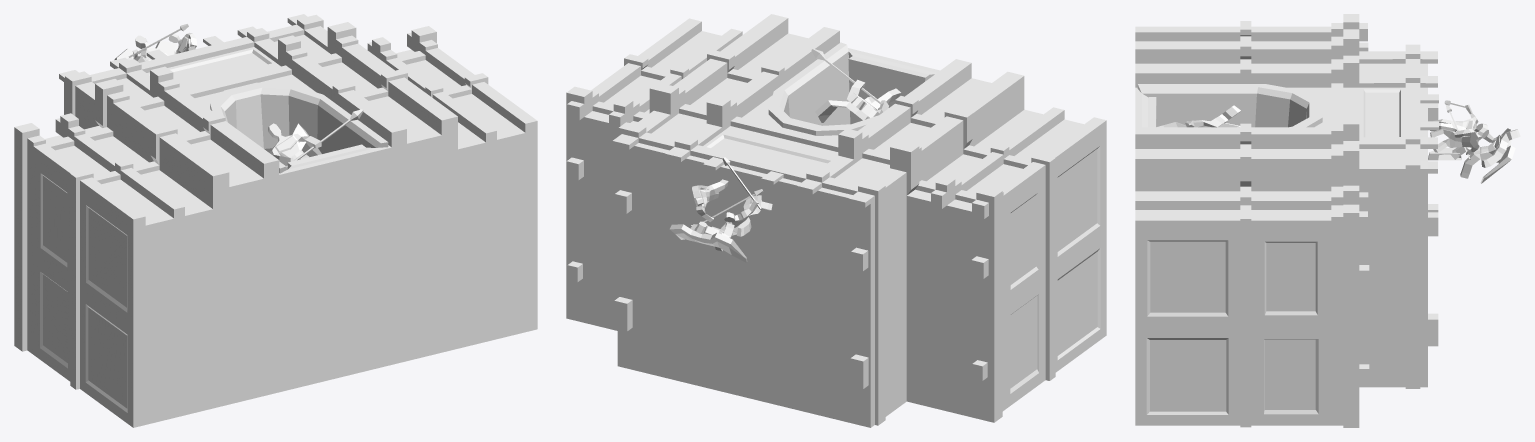
File: venice_building_5.fbx
3 renders of one model, left to right at view 1: azimuth 30°, elevation 25°; view 2: azimuth 150°, elevation 25°; view 3: azimuth 270°, elevation 25°, orthographic. The views are drawn at different scales.
Parts seen in each view (by area): view 1: Cube.353; view 2: Cube.353; view 3: Cube.353.
Part boxes in pixels (x1,y1,x2,y2): Cube.353: [14, 14, 537, 427]; Cube.353: [566, 14, 1106, 427]; Cube.353: [1135, 14, 1520, 427].
Size of the model in its own units: 5792 by 3238 by 4745.
